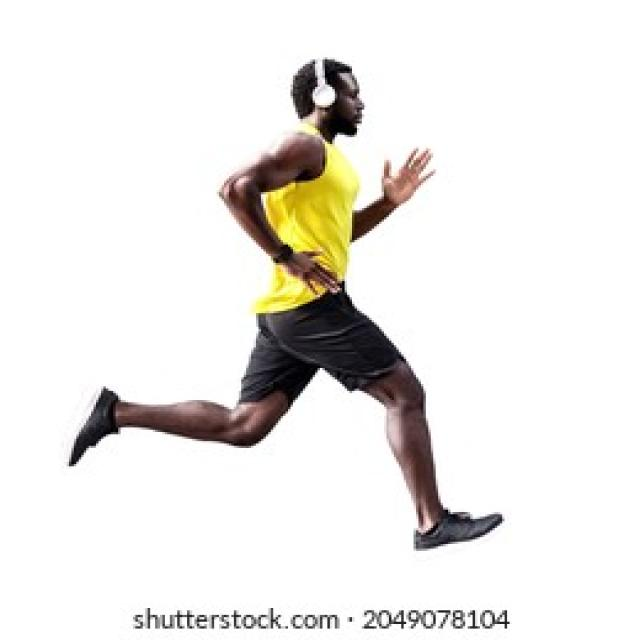running: (66, 55, 505, 552)
